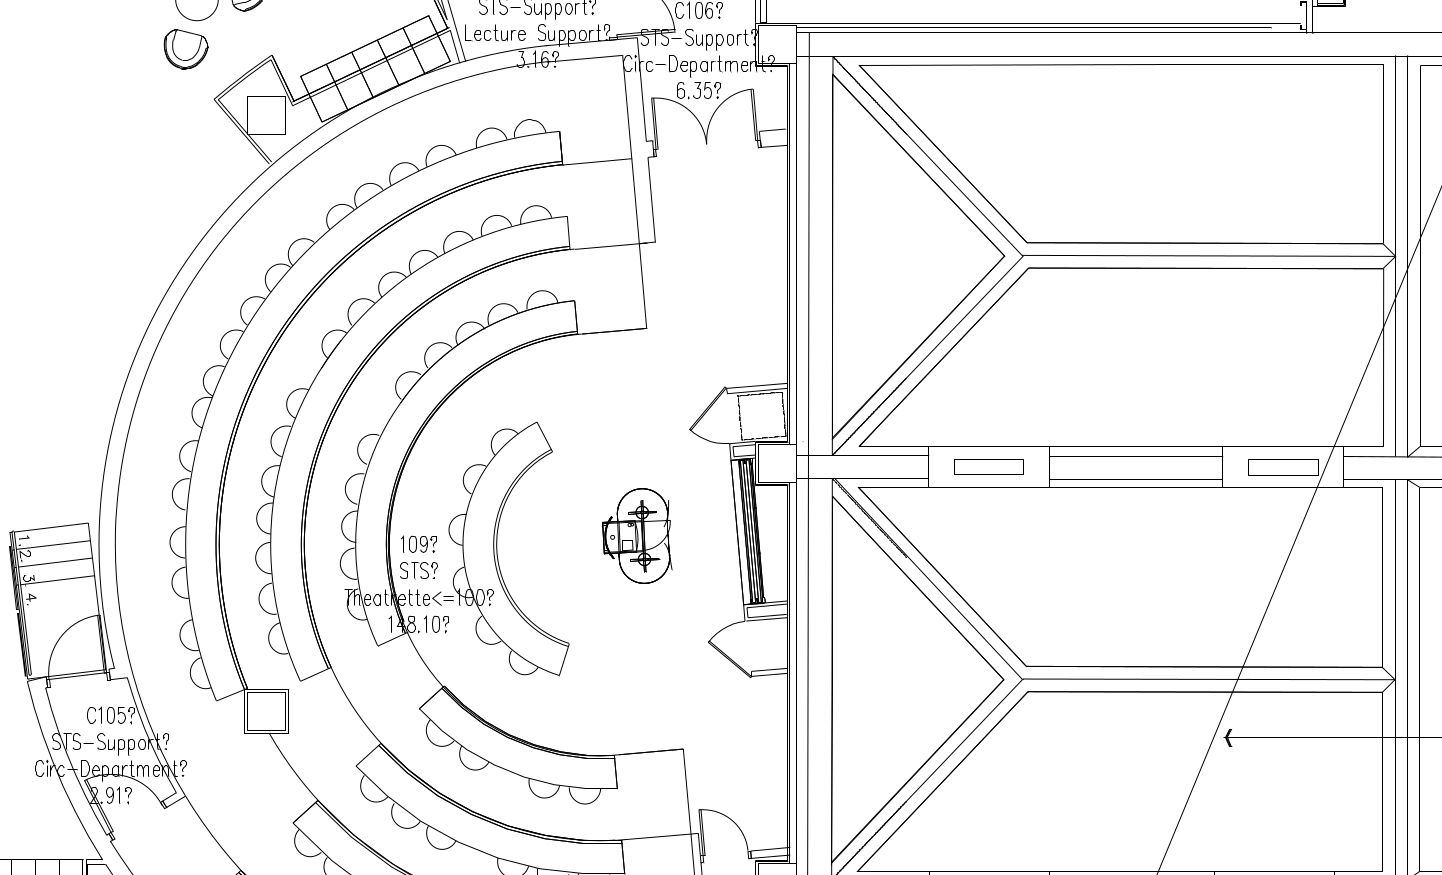door: (647, 85, 764, 151), (697, 791, 756, 859), (705, 617, 752, 679), (681, 385, 728, 447)
